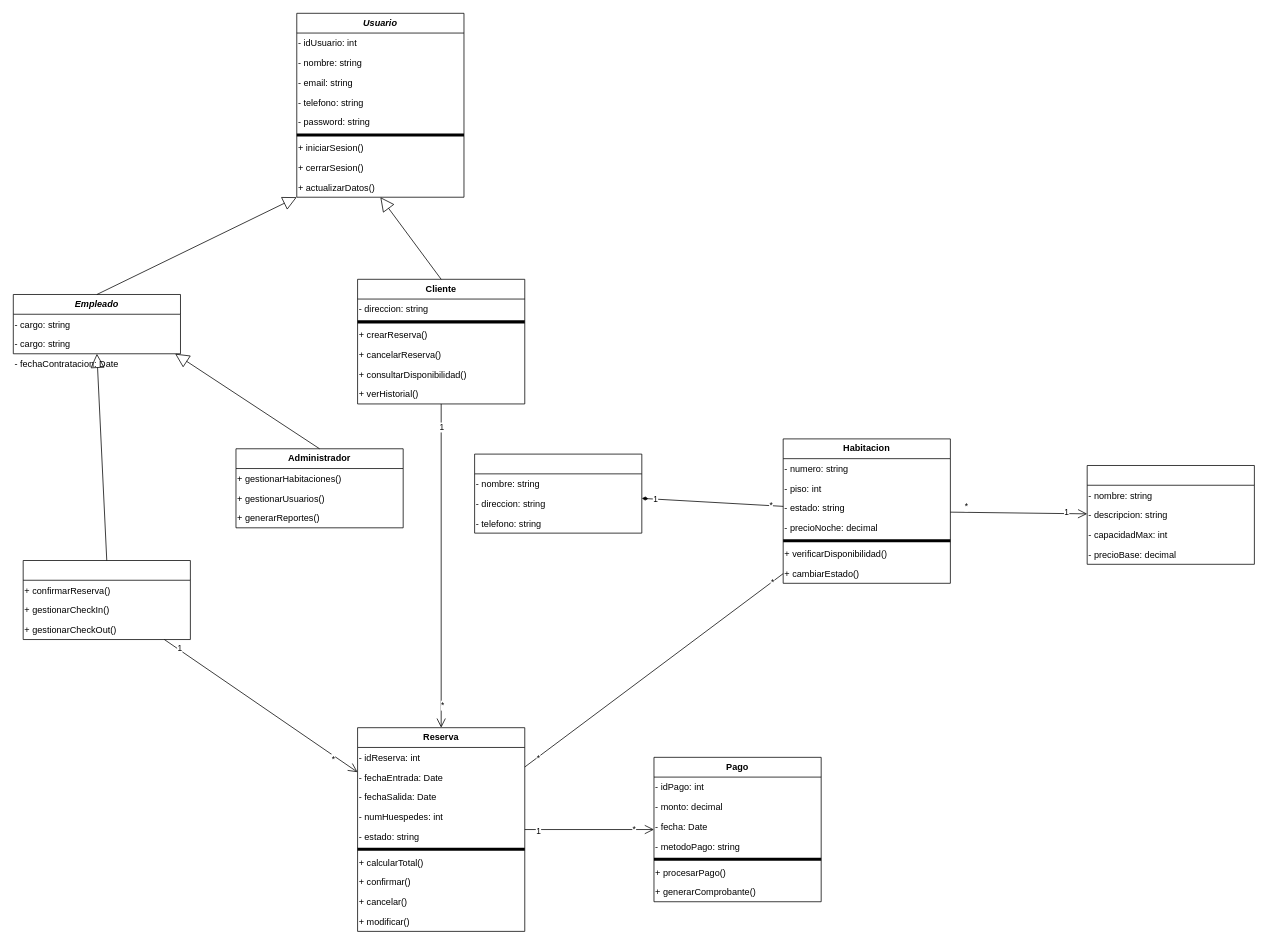
Image size: 1268x945. Some labels were removed from this diagram. The box of each missing label's shape, as (x1, y1, x2, y2) in pixels:
Hotel: (474, 453, 642, 533)
Recepcionista: (22, 560, 190, 640)
TipoHabitacion: (1086, 465, 1254, 564)
